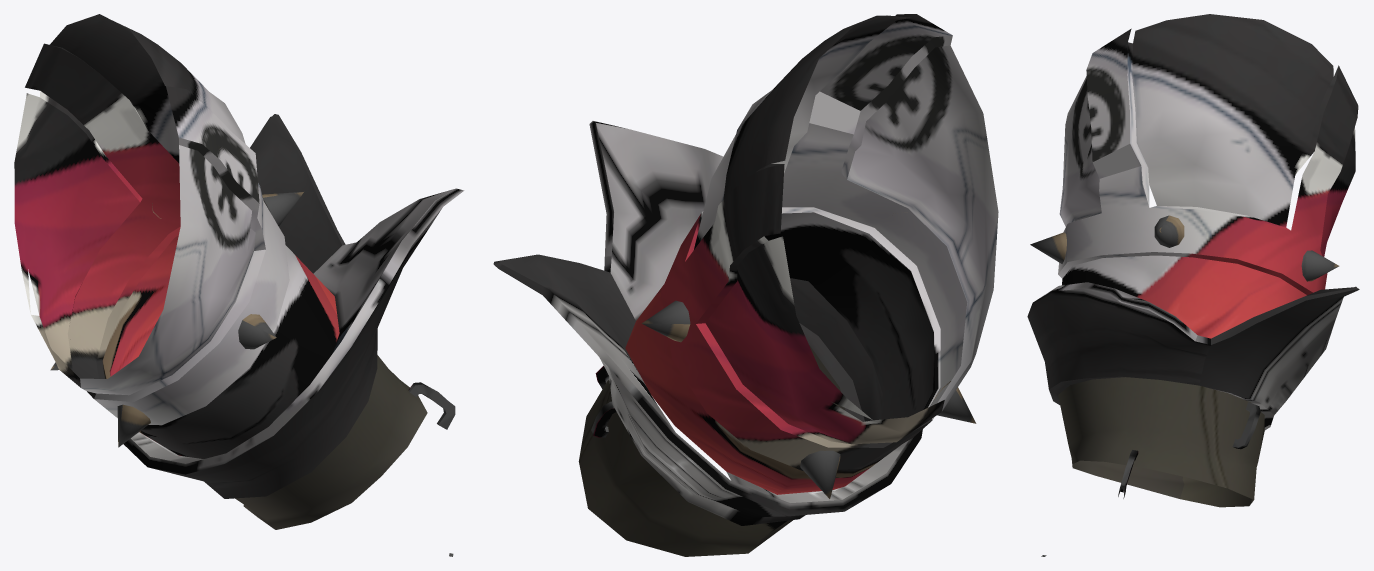
The model's file is BrazoIzquierdo_Manato.obj.
3 views of the same model, side by side, from view 1: azimuth 30°, elevation 25°; view 2: azimuth 150°, elevation 25°; view 3: azimuth 270°, elevation 25° (orthographic). The views are drawn at different scales.
Visible parts, largest first — view 1: Skn_L_UpArm_Twist01, Skn_L_UpArm_Twist02, Bip001 L UpperArm, BrazoIzquierdo_MAT_Norano_Body_1_UI, Ctr_L_SleeveA_01, Ctr_L_SleeveB_01, Bip001 L Clavicle; view 2: Skn_L_UpArm_Twist01, Skn_L_UpArm_Twist02, Bip001 L UpperArm, Ctr_L_SleeveA_01, BrazoIzquierdo_MAT_Norano_Body_1_UI, Ctr_L_SleeveB_01, Bip001 L Clavicle; view 3: Skn_L_UpArm_Twist01, Bip001 L UpperArm, BrazoIzquierdo_MAT_Norano_Body_1_UI, Skn_L_UpArm_Twist02, Ctr_L_SleeveB_01, Ctr_L_SleeveA_01, Skn_L_Clavicle_Fix, Bip001 L Clavicle.
Boxes of the visible parts, left/top/right/bottom form: Skn_L_UpArm_Twist01: left=14, top=53, right=338, bottom=447; Skn_L_UpArm_Twist02: left=51, top=219, right=382, bottom=482; Bip001 L UpperArm: left=186, top=338, right=454, bottom=529; BrazoIzquierdo_MAT_Norano_Body_1_UI: left=25, top=14, right=220, bottom=159; Ctr_L_SleeveA_01: left=335, top=188, right=464, bottom=335; Ctr_L_SleeveB_01: left=250, top=114, right=341, bottom=244; Bip001 L Clavicle: left=14, top=43, right=219, bottom=226; Skn_L_UpArm_Twist01: left=628, top=39, right=998, bottom=498; Skn_L_UpArm_Twist02: left=596, top=212, right=971, bottom=516; Bip001 L UpperArm: left=578, top=278, right=882, bottom=556; Ctr_L_SleeveA_01: left=589, top=121, right=723, bottom=281; BrazoIzquierdo_MAT_Norano_Body_1_UI: left=743, top=14, right=951, bottom=249; Ctr_L_SleeveB_01: left=493, top=254, right=673, bottom=436; Bip001 L Clavicle: left=744, top=14, right=982, bottom=317; Skn_L_UpArm_Twist01: left=1030, top=72, right=1355, bottom=335; Bip001 L UpperArm: left=1045, top=341, right=1286, bottom=507; BrazoIzquierdo_MAT_Norano_Body_1_UI: left=1086, top=14, right=1358, bottom=145; Skn_L_UpArm_Twist02: left=1027, top=256, right=1334, bottom=400; Ctr_L_SleeveB_01: left=1211, top=286, right=1359, bottom=376; Ctr_L_SleeveA_01: left=1051, top=282, right=1194, bottom=341; Skn_L_Clavicle_Fix: left=1163, top=72, right=1255, bottom=113; Bip001 L Clavicle: left=1065, top=42, right=1356, bottom=156.
Bounding box in the file's own units: 0.2174 × 0.3058 × 0.2062.
